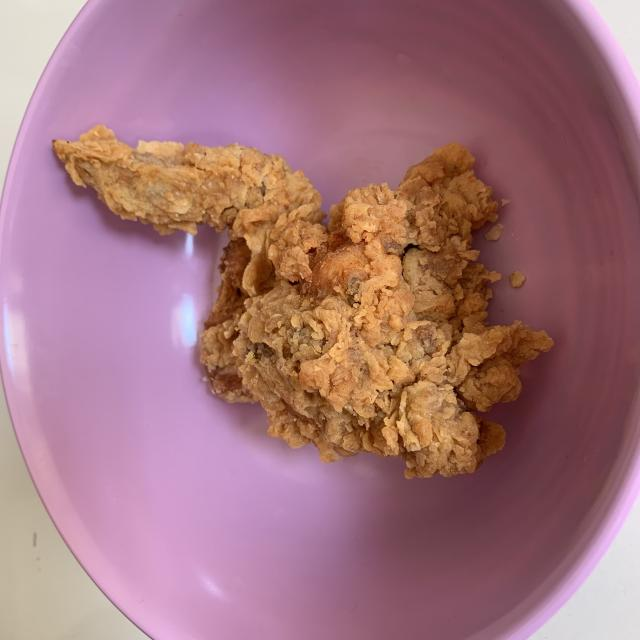Frango: (52, 128, 550, 473)
